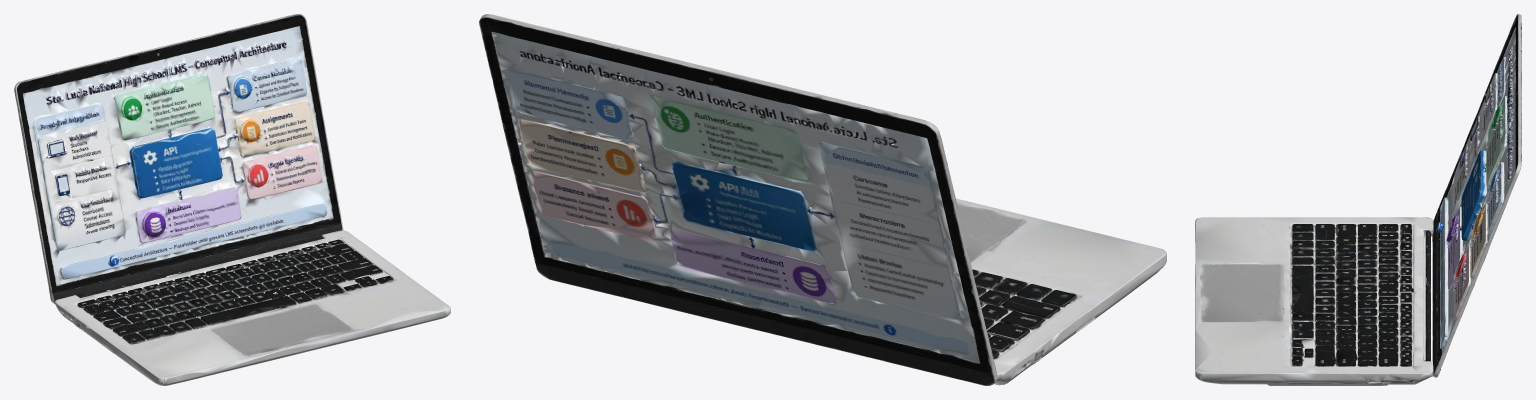
File: project-laptop-209dc2ae2b.glb
The picture shows the model from 3 angles, left to right: view 1: azimuth 30°, elevation 25°; view 2: azimuth 150°, elevation 25°; view 3: azimuth 270°, elevation 25°; orthographic projection. The views are drawn at different scales.
Size of the model in its own units: 1.9 by 1.27 by 1.68.
Materials: 1 (1 with a texture image).
